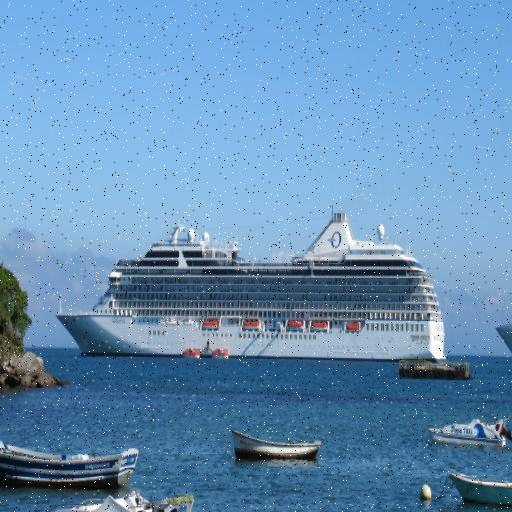cruises: (54, 205, 453, 366)
